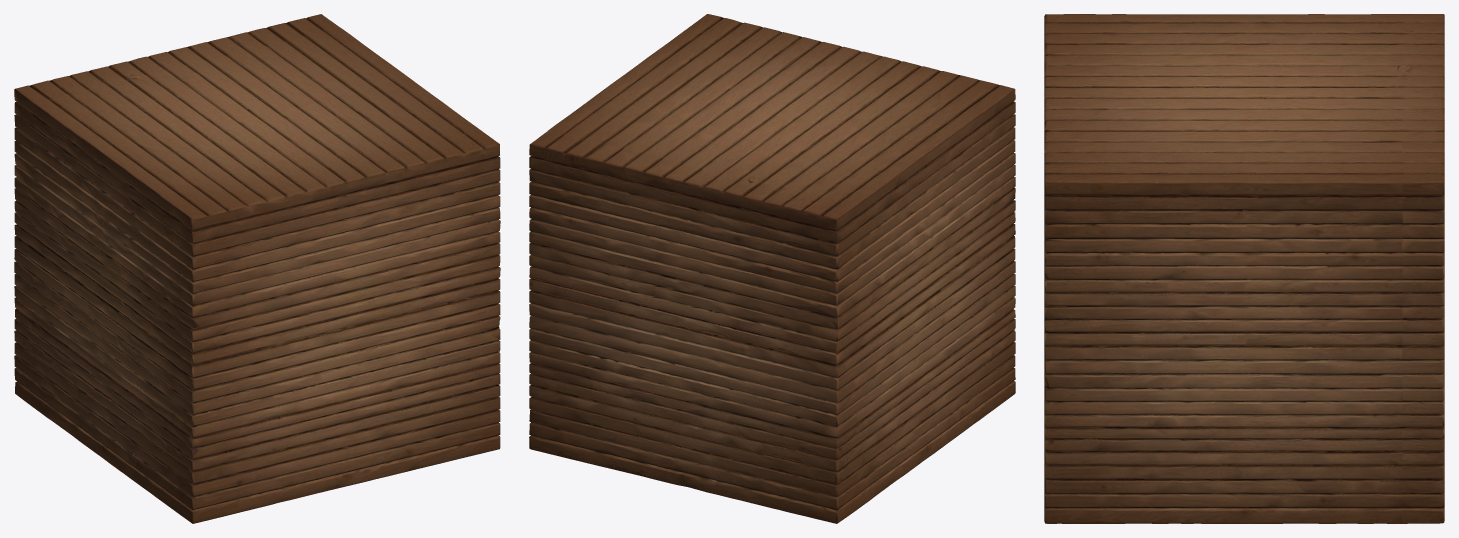
File: wooden+block+3d+model.glb
3 views of the same model, side by side, from view 1: azimuth 30°, elevation 25°; view 2: azimuth 150°, elevation 25°; view 3: azimuth 270°, elevation 25° (orthographic). The views are drawn at different scales.
Parts seen in each view (by area): view 1: tripo_node_b06bbe6e-2f91-47cc-a4a4-7a9afca7cfd3; view 2: tripo_node_b06bbe6e-2f91-47cc-a4a4-7a9afca7cfd3; view 3: tripo_node_b06bbe6e-2f91-47cc-a4a4-7a9afca7cfd3.
Part boxes in pixels (<box>): tripo_node_b06bbe6e-2f91-47cc-a4a4-7a9afca7cfd3: <box>14,14,500,523</box>; tripo_node_b06bbe6e-2f91-47cc-a4a4-7a9afca7cfd3: <box>529,14,1015,523</box>; tripo_node_b06bbe6e-2f91-47cc-a4a4-7a9afca7cfd3: <box>1044,14,1444,523</box>.
Size of the model in its own units: 0.9793 by 0.933 by 0.982.
Materials: 1 (1 with a texture image).
